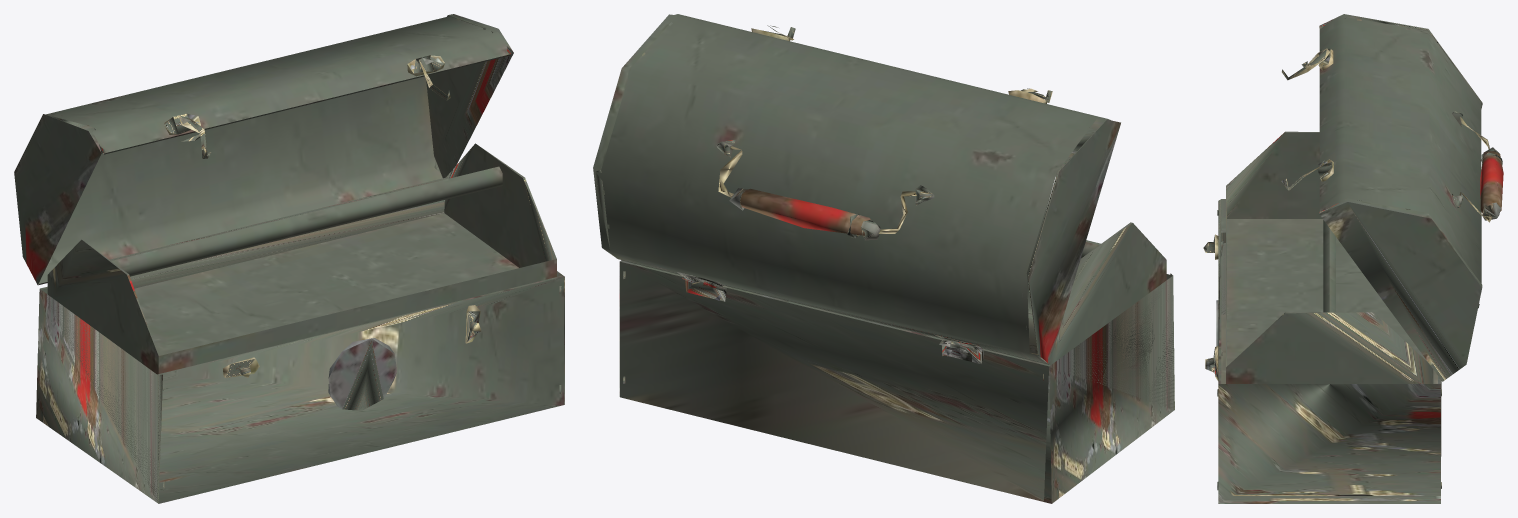
The model's file is toolbox.glb.
3 renders of one model, left to right at view 1: azimuth 30°, elevation 25°; view 2: azimuth 150°, elevation 25°; view 3: azimuth 270°, elevation 25°, orthographic. The views are drawn at different scales.
Parts seen in each view (by area): view 1: metal_toolbox; view 2: metal_toolbox; view 3: metal_toolbox.
Boxes of the visible parts, x1,y1,x2,y2 form: metal_toolbox: [14, 14, 564, 503]; metal_toolbox: [593, 14, 1174, 503]; metal_toolbox: [1203, 14, 1503, 503].
Size of the model in its own units: 0.4 by 0.3042 by 0.2699.
1 material, 1 textured.
